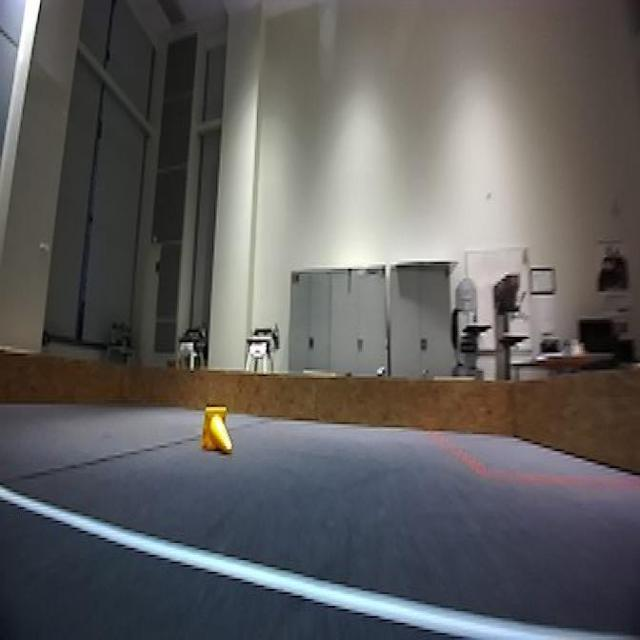frc_cone: (199, 402, 233, 458)
